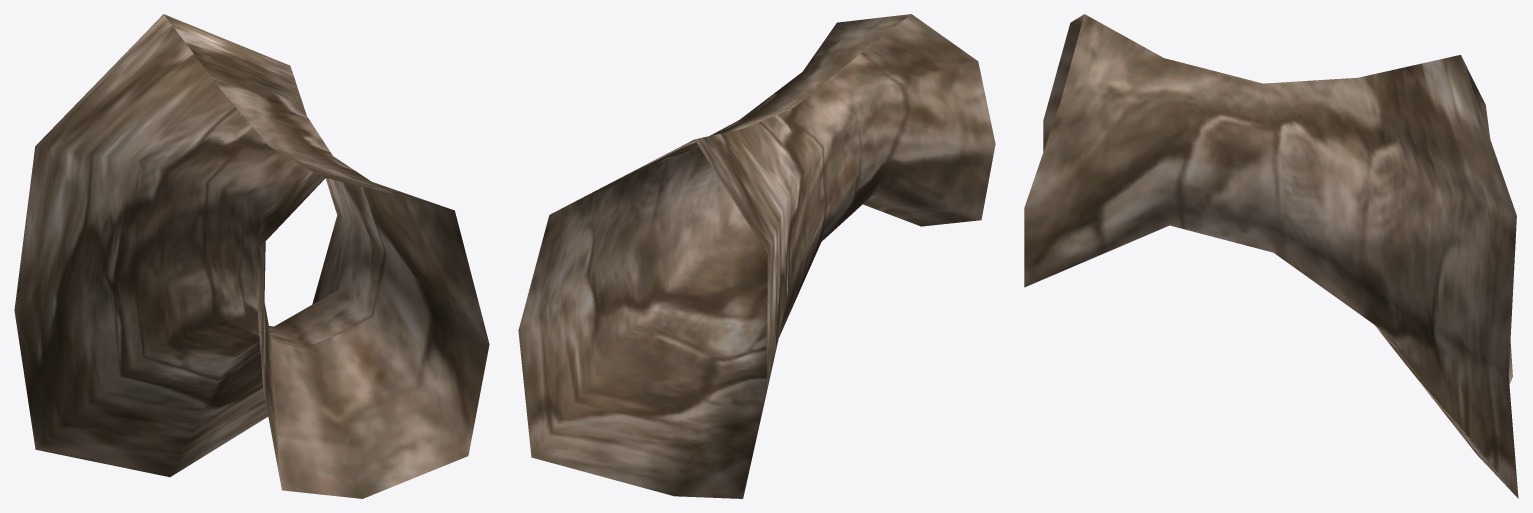
The model's file is OVERHILL_A_01_LINE26.fbx.
3 renders of one model, left to right at view 1: azimuth 30°, elevation 25°; view 2: azimuth 150°, elevation 25°; view 3: azimuth 270°, elevation 25°, orthographic. The views are drawn at different scales.
Visible parts, largest first — view 1: OVERHILL_A_01_LINE26; view 2: OVERHILL_A_01_LINE26; view 3: OVERHILL_A_01_LINE26.
Boxes of the visible parts, x1,y1,x2,y2 form: OVERHILL_A_01_LINE26: (14,14,489,498); OVERHILL_A_01_LINE26: (518,14,995,498); OVERHILL_A_01_LINE26: (1024,14,1518,498).
Bounding box in the file's own units: 23667 × 31035 × 33989.
Materials: 1 (1 with a texture image).
